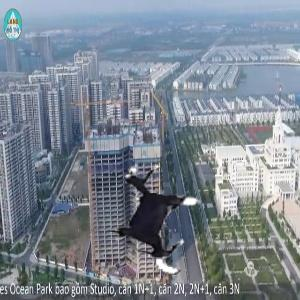drone: (98, 158, 222, 282)
